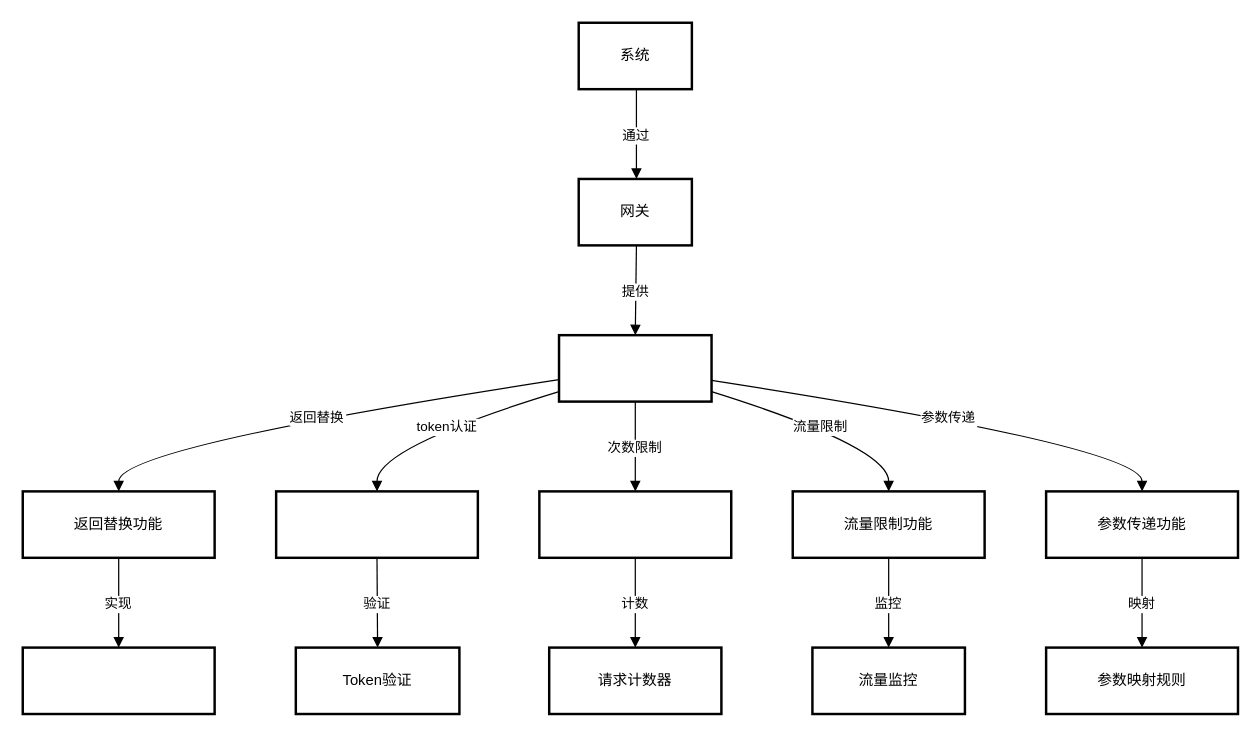
Some shapes in this 1260 by 736 pixel diagram are drawn without their labels. The shapes that lost their labels are listed below. From the top down, each one's centre as x and y in pixels, then its label:
At (x=634, y=367): "共享服务".
At (x=376, y=524): "token认证功能".
At (x=635, y=524): "次数限制功能".
At (x=118, y=680): "响应格式处理".
